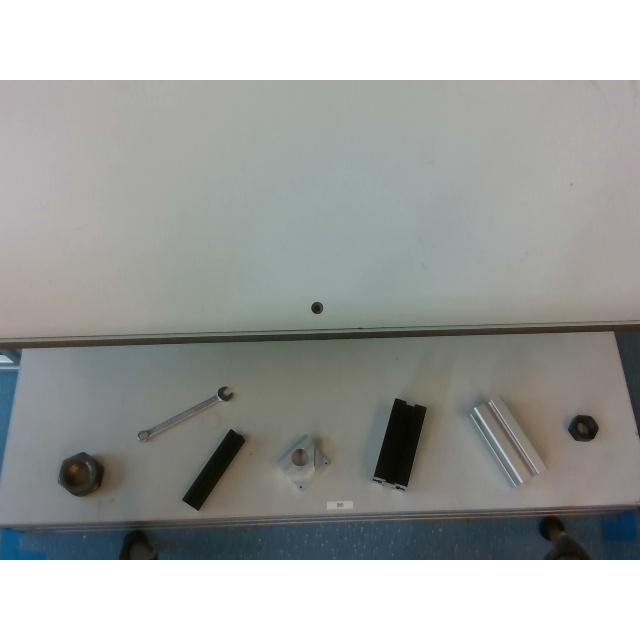F20_20_B: (182, 429, 245, 509)
M20: (566, 415, 598, 441)
M30: (58, 452, 104, 496)
S40_40_B: (372, 398, 426, 490)
S40_40_G: (470, 398, 546, 487)
